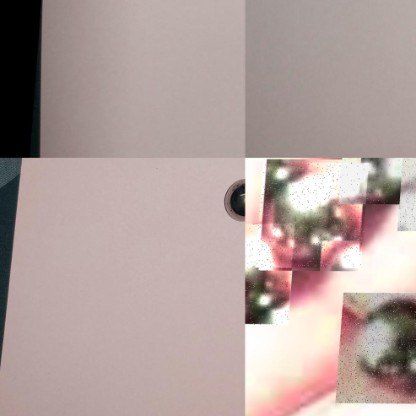ironball: (259, 161, 370, 267), (341, 291, 415, 402), (245, 222, 298, 324), (340, 157, 415, 203), (222, 177, 244, 223)
